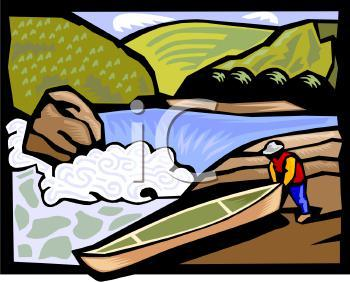boat: (71, 178, 288, 281)
person: (257, 139, 314, 223)
